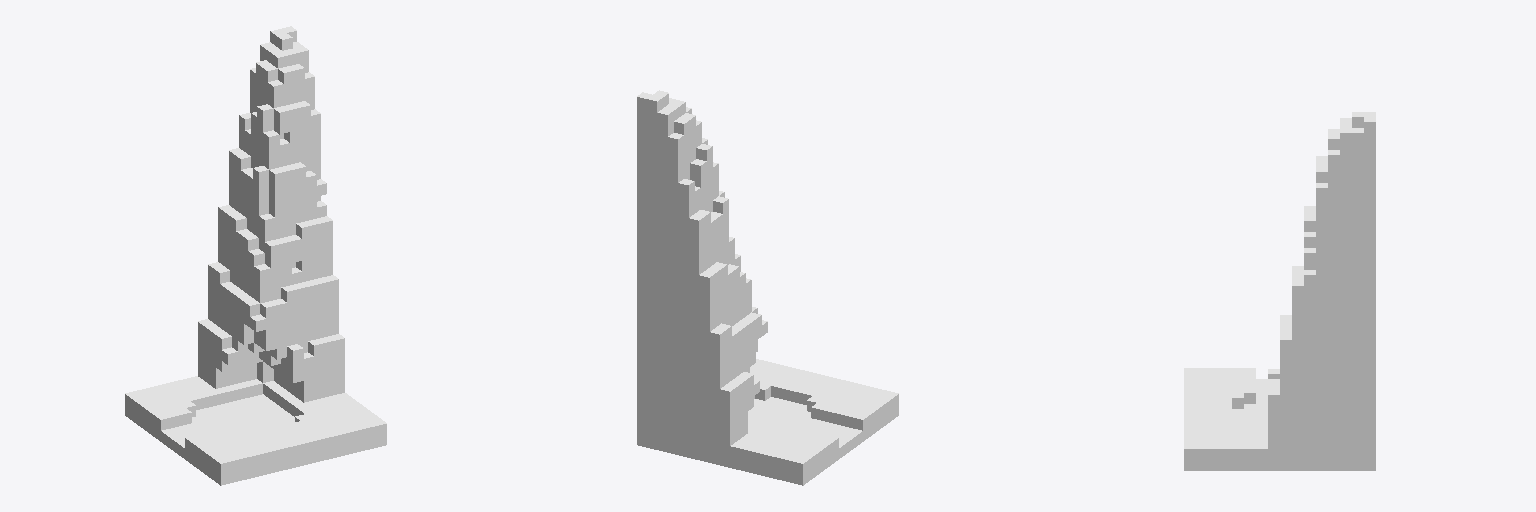
The model's file is Mountain_river_4.obj.
3 renders of one model, left to right at view 1: azimuth 30°, elevation 25°; view 2: azimuth 150°, elevation 25°; view 3: azimuth 270°, elevation 25°, orthographic.
Parts seen in each view (by area): view 1: object 1; view 2: object 1; view 3: object 1.
Boxes of the visible parts, <box> form: object 1: <box>125,26,386,485</box>; object 1: <box>637,90,898,485</box>; object 1: <box>1184,112,1375,470</box>.
Size of the model in its own units: 1.6 by 3.2 by 1.6.